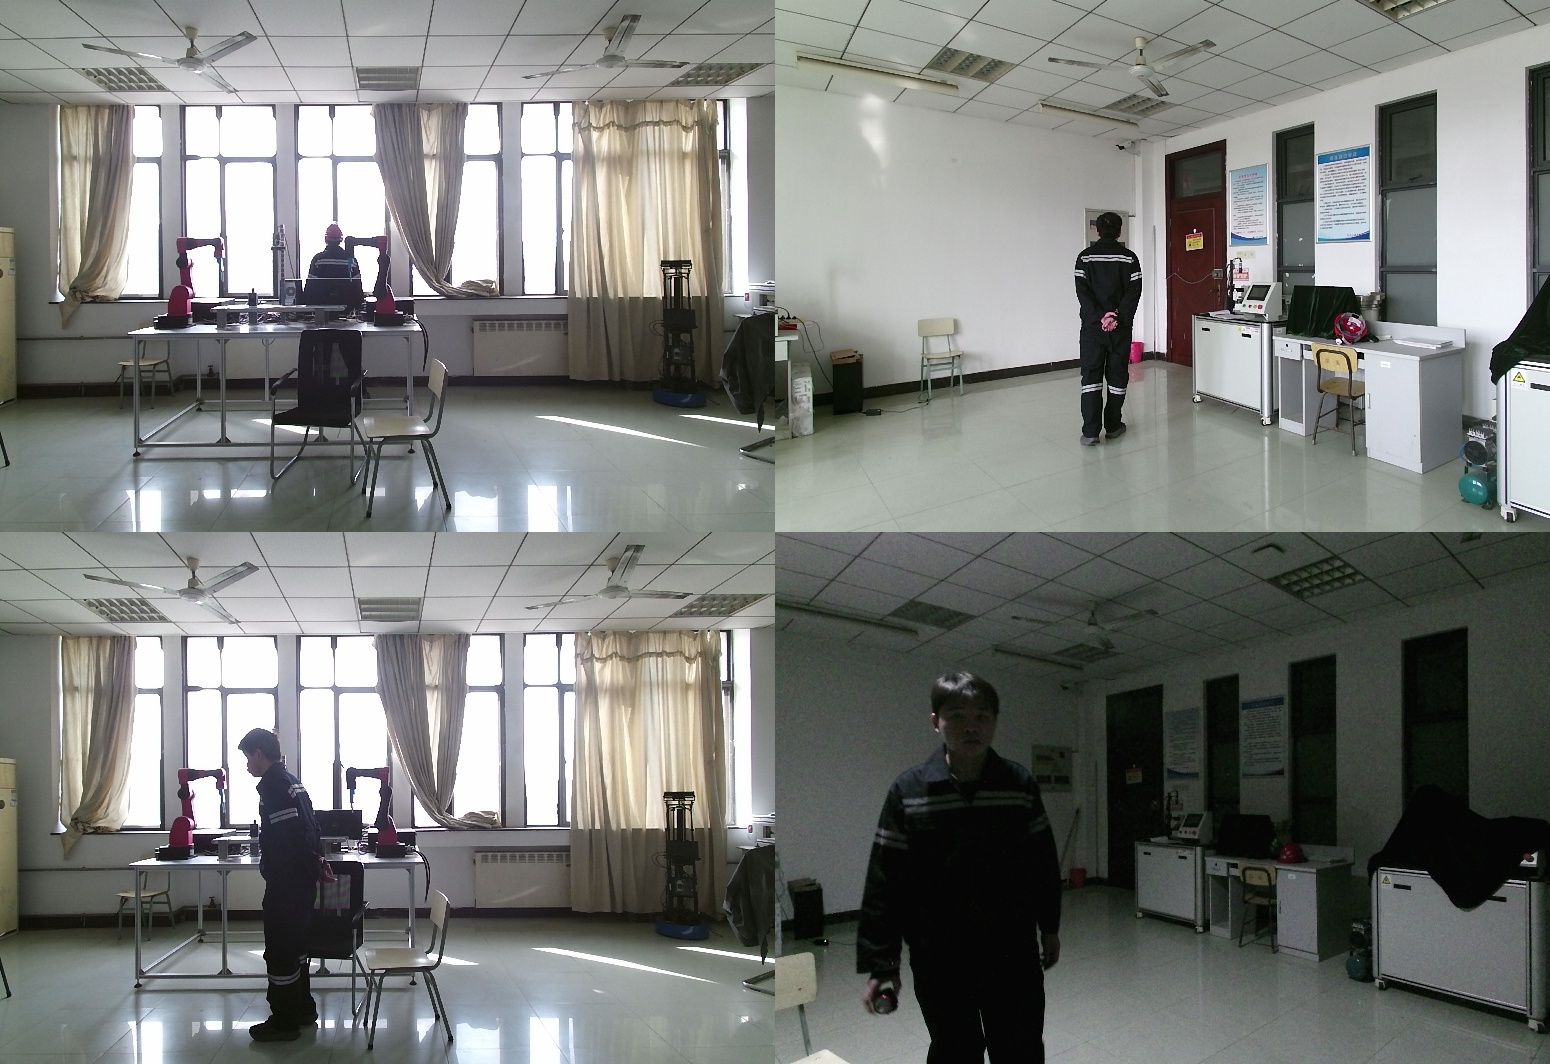person: (858, 673, 1073, 1064), (238, 728, 336, 1039), (1064, 211, 1147, 448), (302, 225, 362, 380)
